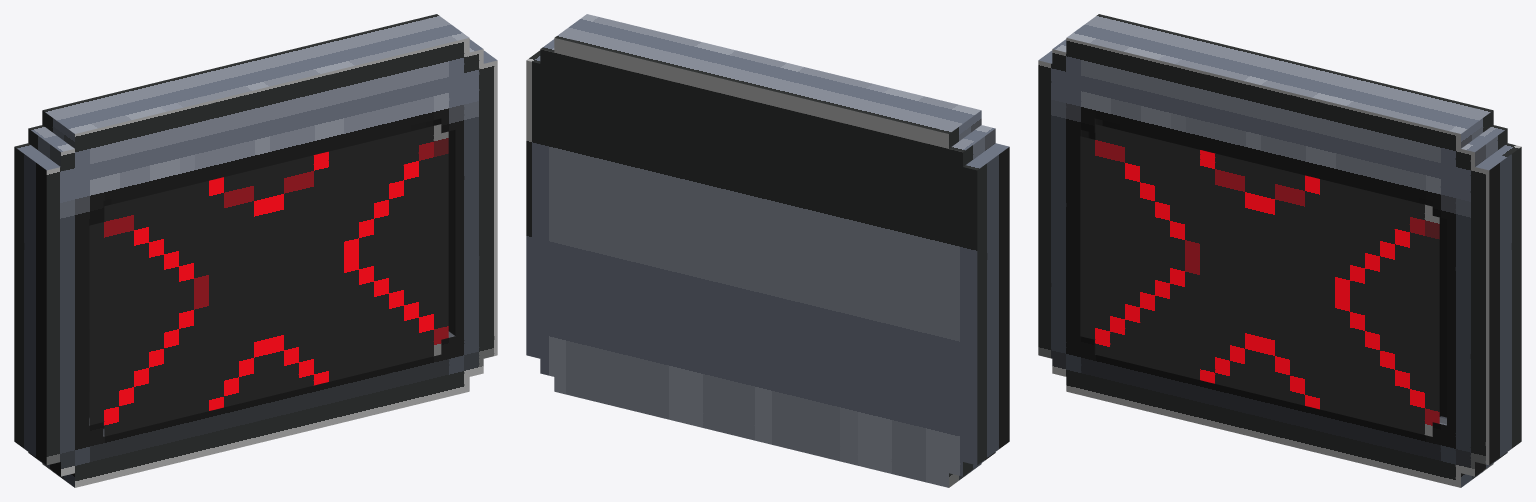
Rendered from status_display_deltaalert.glb.
The picture shows the model from 3 angles, left to right: view 1: azimuth 30°, elevation 25°; view 2: azimuth 150°, elevation 25°; view 3: azimuth 330°, elevation 25°; orthographic projection.
Parts seen in each view (by area): view 1: Continuous_Frame, Picture_Overlay, Recessed_Glass; view 2: Continuous_Frame; view 3: Continuous_Frame, Picture_Overlay, Recessed_Glass.
Boxes of the visible parts, x1,y1,x2,y2 form: Continuous_Frame: (14, 14, 497, 487); Picture_Overlay: (89, 124, 448, 436); Recessed_Glass: (89, 119, 454, 436); Continuous_Frame: (526, 14, 1009, 487); Continuous_Frame: (1038, 14, 1521, 487); Picture_Overlay: (1080, 124, 1439, 436); Recessed_Glass: (1081, 119, 1446, 424).
Size of the model in its own units: 0.9 by 0.675 by 0.1129.
3 materials, 3 textured.
